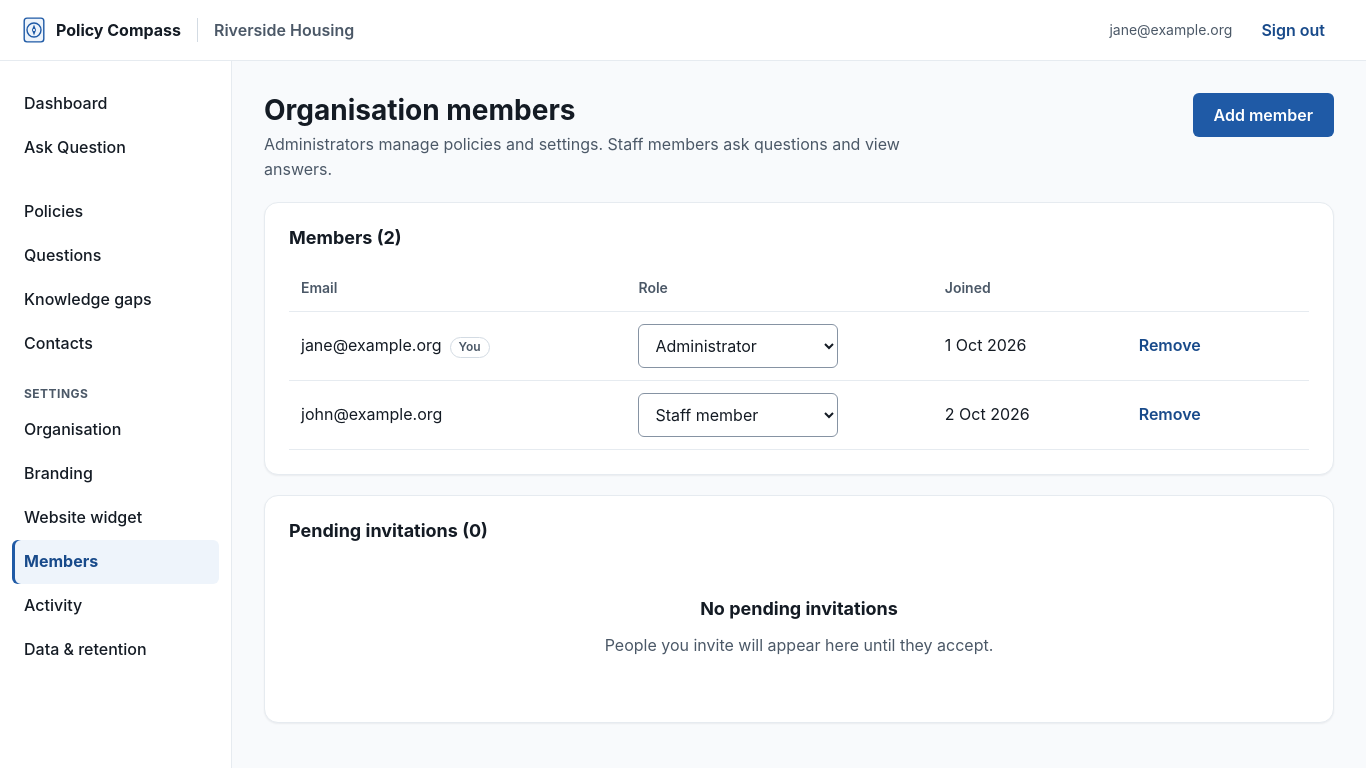
it: Members page › changes a member's role
The width and height of the screenshot is (1366, 768).
Select "Administrator" in the dropdown named "Role for john@example.org" in the row of "john@example.org" at point(738, 415), box [638, 393, 838, 437]
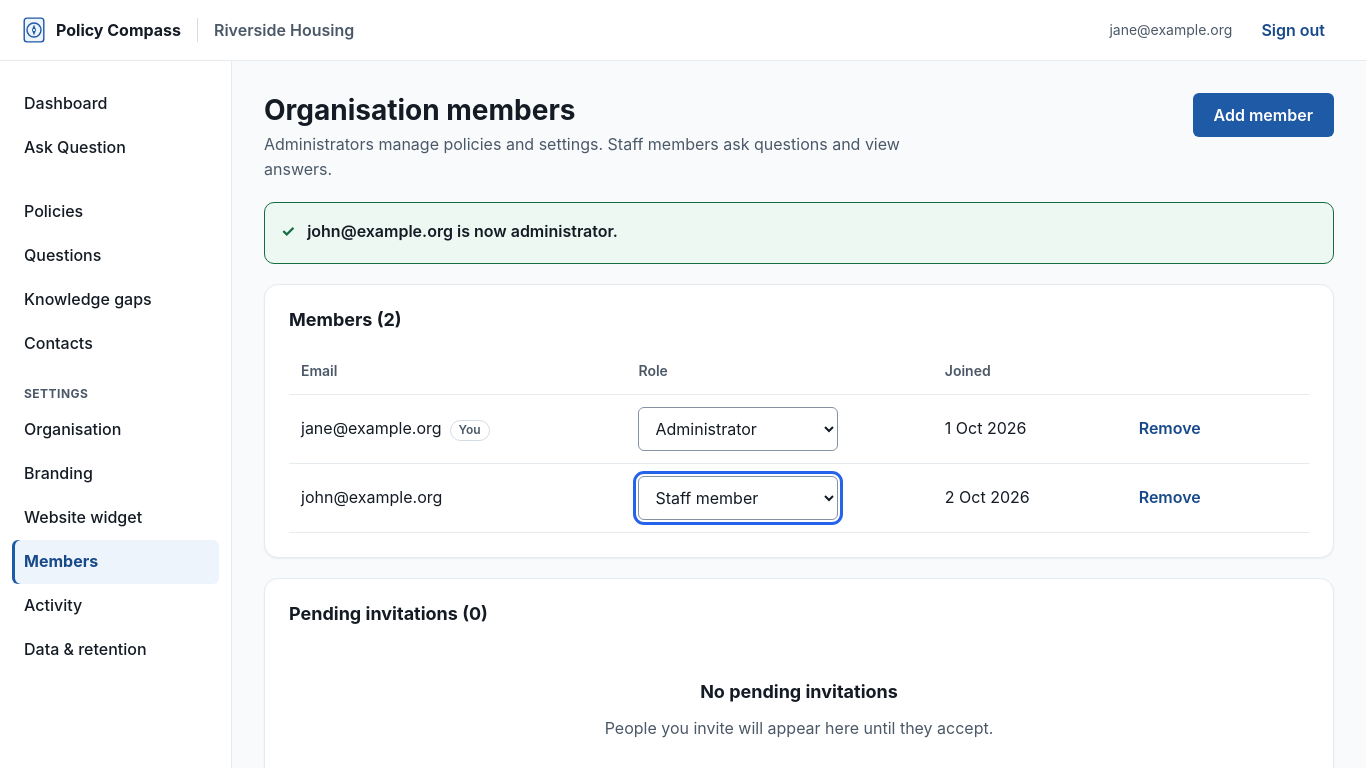
Now the text "john@example.org is now administrator." is shown, box [307, 219, 618, 243]
